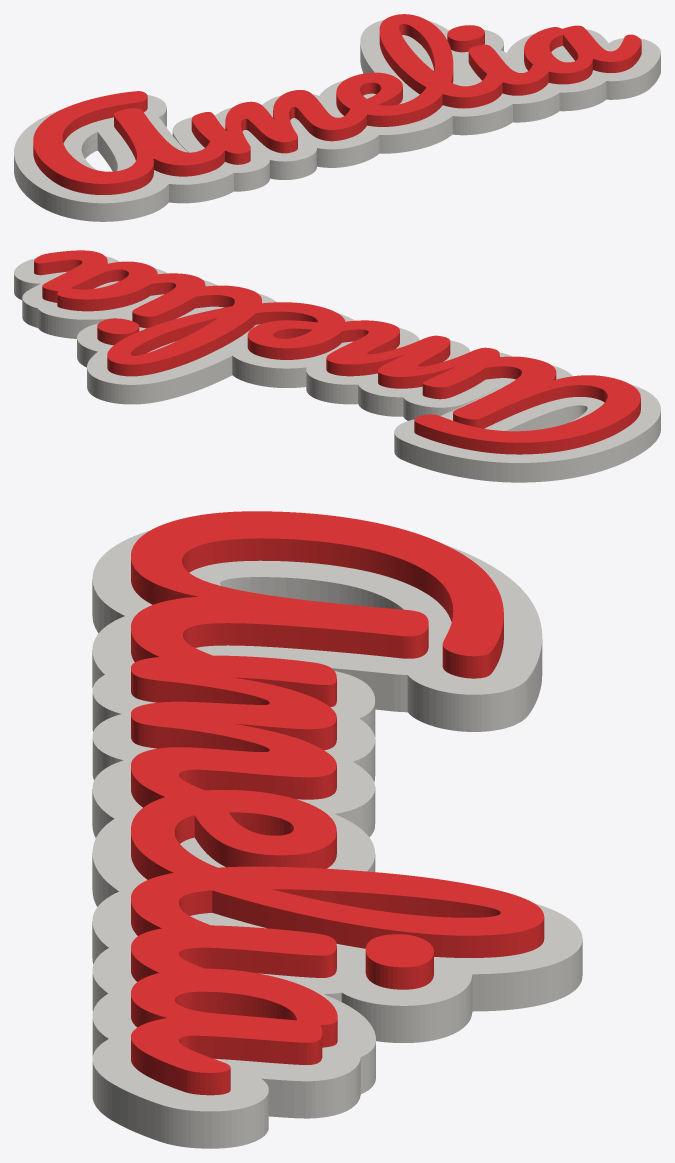
The model's file is amelia-magnet.glb.
The picture shows the model from 3 angles, top to bottom: view 1: azimuth 30°, elevation 25°; view 2: azimuth 150°, elevation 25°; view 3: azimuth 270°, elevation 25°; orthographic projection. The views are drawn at different scales.
Parts seen in each view (by area): view 1: Text, Base; view 2: Text, Base; view 3: Text, Base.
Boxes of the visible parts, x1,y1,x2,y2 form: Text: (33,14,641,194); Base: (14,19,660,221); Text: (34,250,640,454); Base: (14,256,660,482); Text: (131,511,544,1095); Base: (92,531,582,1148).
Size of the model in its own units: 0.1026 by 0.0048 by 0.0358.
